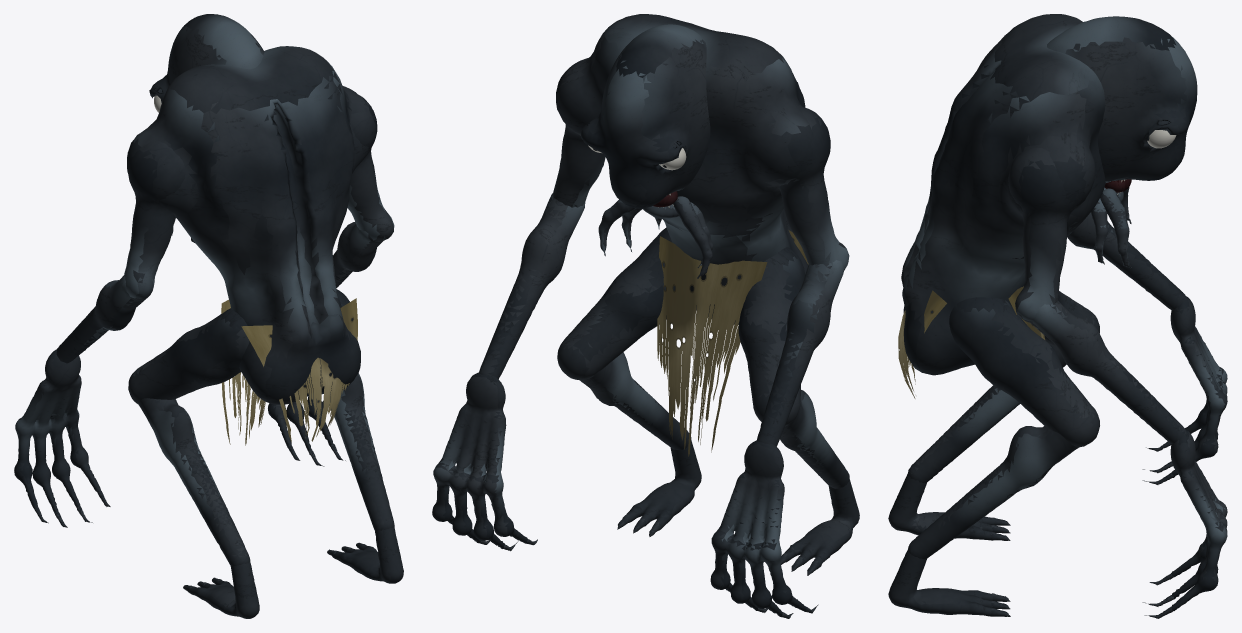
The model's file is black_monster.obj.
The picture shows the model from 3 angles, left to right: view 1: azimuth 30°, elevation 25°; view 2: azimuth 150°, elevation 25°; view 3: azimuth 270°, elevation 25°; orthographic projection. The views are drawn at different scales.
Visible parts, largest first — view 1: torso, hand_r, thigh_r, arm_upper_r, shin_r, head, shin_l, cloth_b, arm_upper_l, arm_lower_r, foot_l, foot_r (+3 smaller); view 2: torso, head, cloth_f, hand_r, hand_l, thigh_l, thigh_r, arm_lower_r, arm_lower_l, arm_upper_r, shin_l, foot_l (+5 smaller); view 3: torso, head, thigh_l, arm_upper_l, shin_l, arm_lower_l, hand_l, hand_r, shin_r, foot_l, arm_lower_r, foot_r (+4 smaller).
Part boxes in pixels (x1=…): torso: x1=127, y1=46, x2=370, y2=404; hand_r: x1=14, y1=349, x2=110, y2=527; thigh_r: x1=128, y1=308, x2=249, y2=403; arm_upper_r: x1=124, y1=141, x2=185, y2=300; shin_r: x1=138, y1=398, x2=250, y2=566; head: x1=149, y1=14, x2=264, y2=112; shin_l: x1=329, y1=373, x2=394, y2=530; cloth_b: x1=241, y1=298, x2=357, y2=442; arm_upper_l: x1=347, y1=92, x2=394, y2=241; arm_lower_r: x1=56, y1=275, x2=152, y2=363; foot_l: x1=327, y1=527, x2=403, y2=583; foot_r: x1=183, y1=562, x2=259, y2=618; torso: x1=556, y1=14, x2=813, y2=324; head: x1=581, y1=24, x2=710, y2=208; cloth_f: x1=657, y1=236, x2=767, y2=456; hand_r: x1=710, y1=440, x2=818, y2=618; hand_l: x1=432, y1=372, x2=537, y2=551; thigh_l: x1=557, y1=227, x2=675, y2=379; thigh_r: x1=738, y1=247, x2=805, y2=426; arm_lower_r: x1=757, y1=260, x2=843, y2=446; arm_lower_l: x1=479, y1=193, x2=585, y2=378; arm_upper_r: x1=779, y1=107, x2=849, y2=270; shin_l: x1=579, y1=352, x2=691, y2=449; foot_l: x1=617, y1=440, x2=701, y2=536; torso: x1=901, y1=14, x2=1105, y2=375; head: x1=1047, y1=16, x2=1197, y2=192; thigh_l: x1=949, y1=297, x2=1099, y2=447; arm_upper_l: x1=1008, y1=147, x2=1074, y2=322; shin_l: x1=908, y1=426, x2=1078, y2=559; arm_lower_l: x1=1030, y1=300, x2=1186, y2=443; hand_l: x1=1142, y1=430, x2=1227, y2=618; hand_r: x1=1142, y1=296, x2=1227, y2=484; shin_r: x1=908, y1=344, x2=1066, y2=483; foot_l: x1=888, y1=549, x2=1010, y2=616; arm_lower_r: x1=1067, y1=212, x2=1186, y2=310; foot_r: x1=888, y1=473, x2=1010, y2=540.
Size of the model in its own units: 2.26 by 3.4 by 1.89.
Materials: 6 (6 with a texture image).
